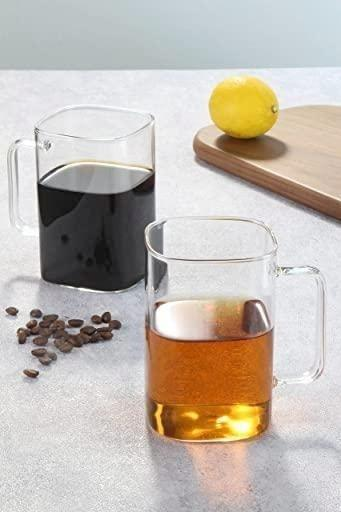glass-mug: (141, 213, 331, 448), (0, 101, 161, 296)
